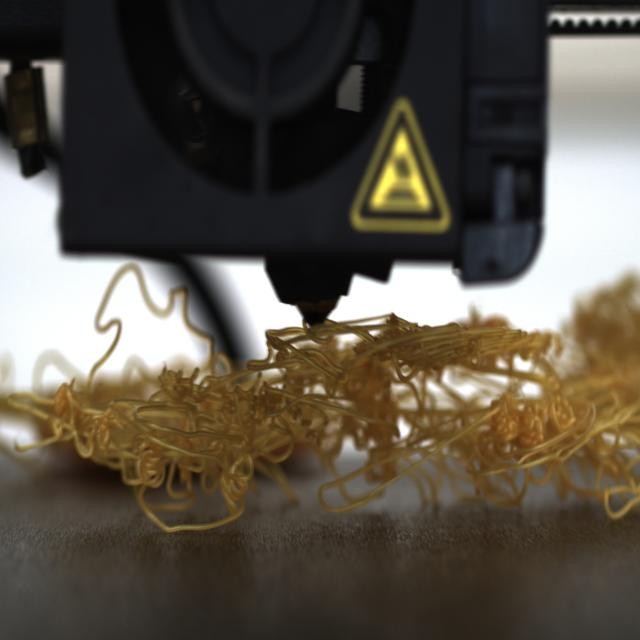Curling_Spagetti: (36, 296, 634, 519)
